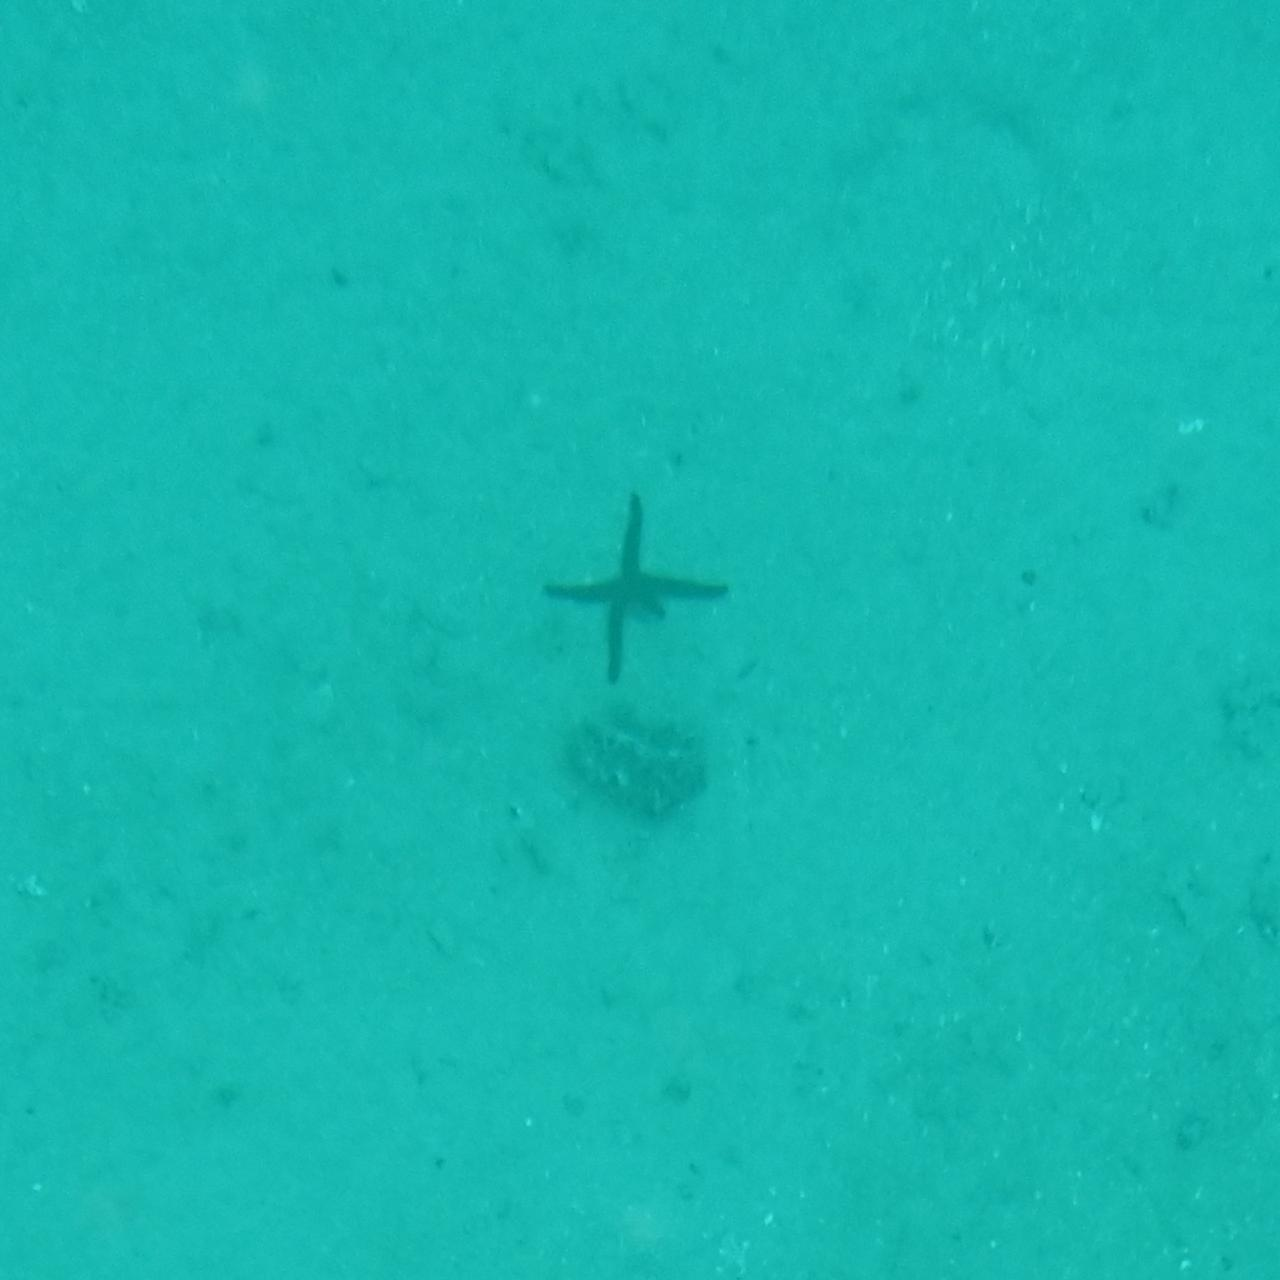Echinaster sepositus: (554, 490, 726, 685)
